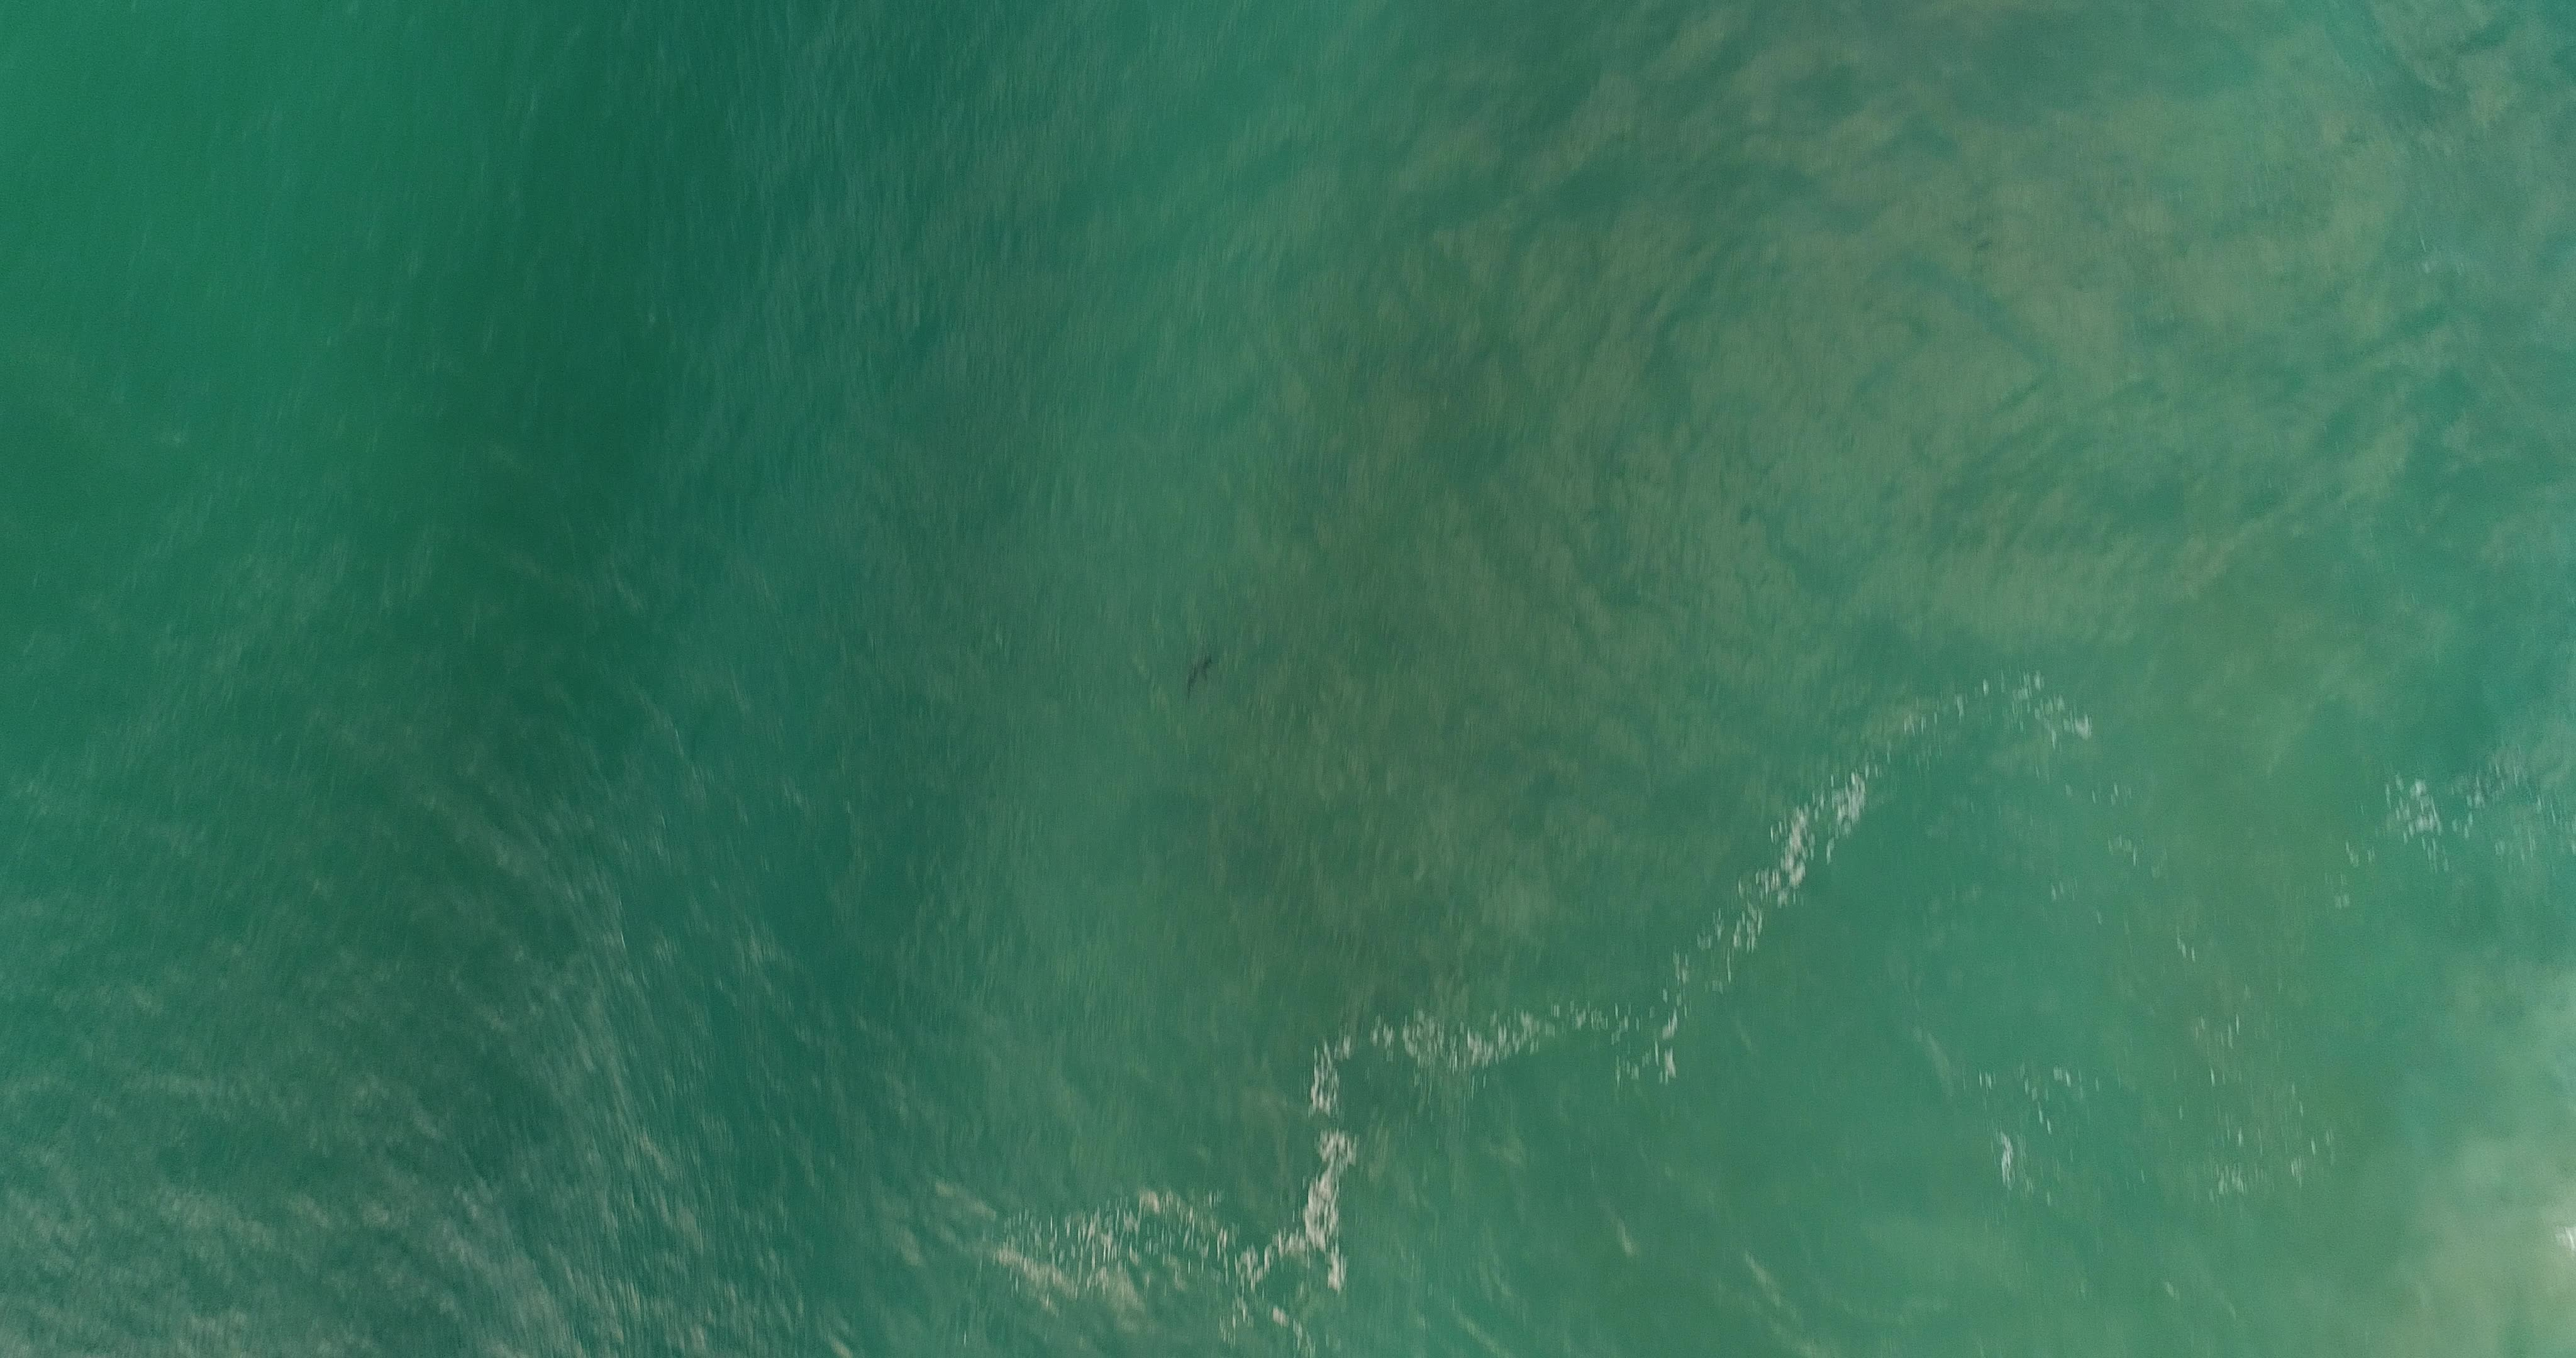shark: (1184, 651, 1220, 704)
